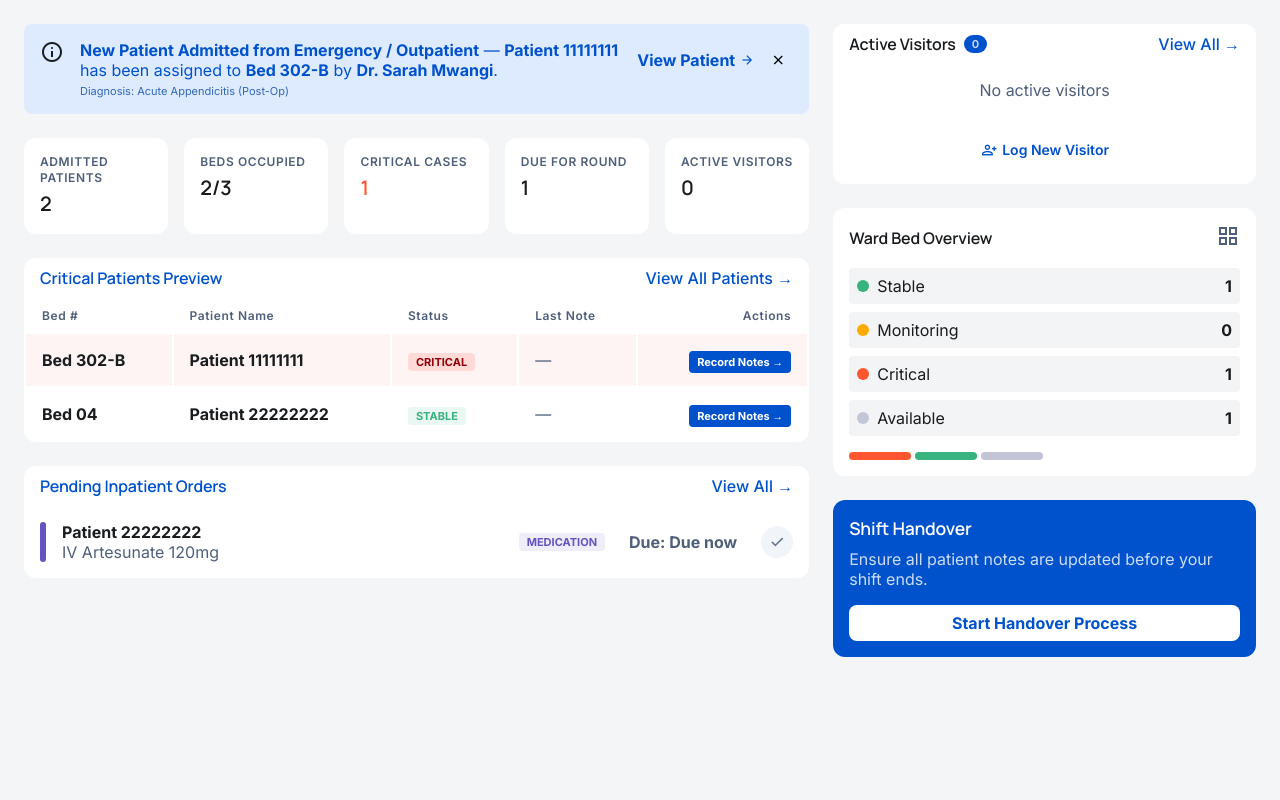
it: WardNurseDashboard › dismisses the new admission alert banner on click
Click the button titled "Dismiss Alert" at (778, 60), box x1=763 y1=40 x2=793 y2=80
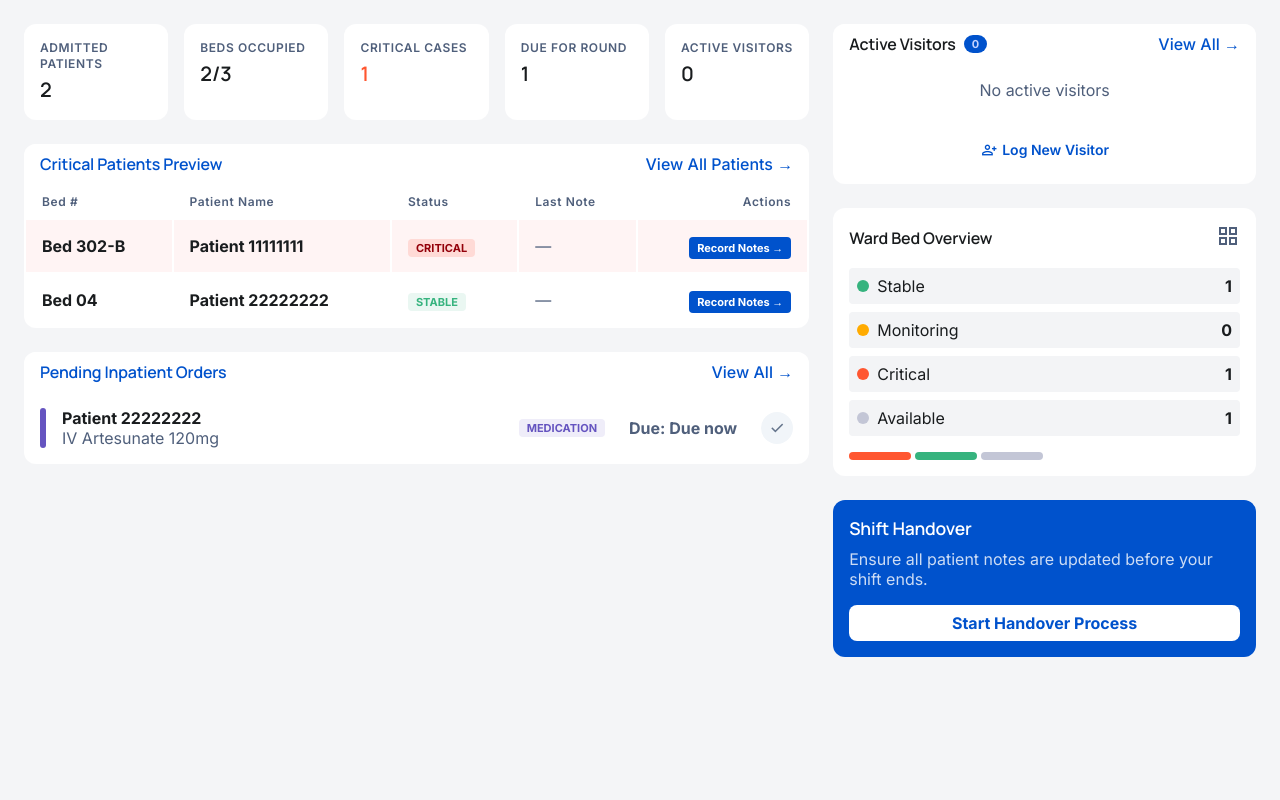
Expected: the text "New Patient Admitted from Emergency / Outpatient" is gone
